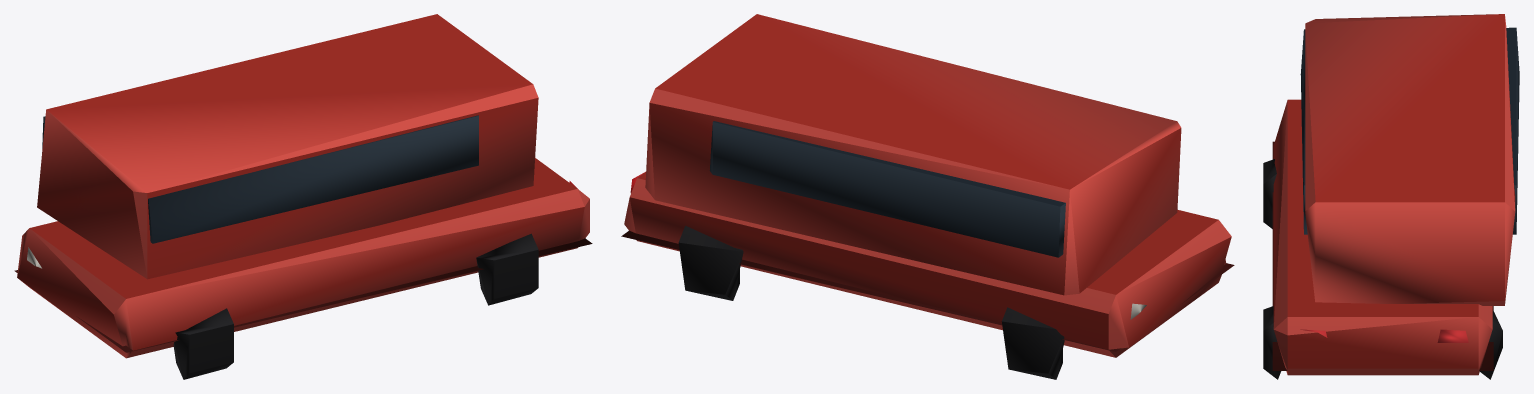
File: car-van-v1.lod2.glb
The picture shows the model from 3 angles, left to right: view 1: azimuth 30°, elevation 25°; view 2: azimuth 150°, elevation 25°; view 3: azimuth 270°, elevation 25°; orthographic projection. The views are drawn at different scales.
Parts seen in each view (by area): view 1: car-van-v1.lod2; view 2: car-van-v1.lod2; view 3: car-van-v1.lod2.
Boxes of the visible parts, x1,y1,x2,y2 form: car-van-v1.lod2: [14, 14, 592, 379]; car-van-v1.lod2: [621, 14, 1234, 379]; car-van-v1.lod2: [1263, 14, 1519, 379].
Bounding box in the file's own units: 5.2 × 1.99 × 2.46.
